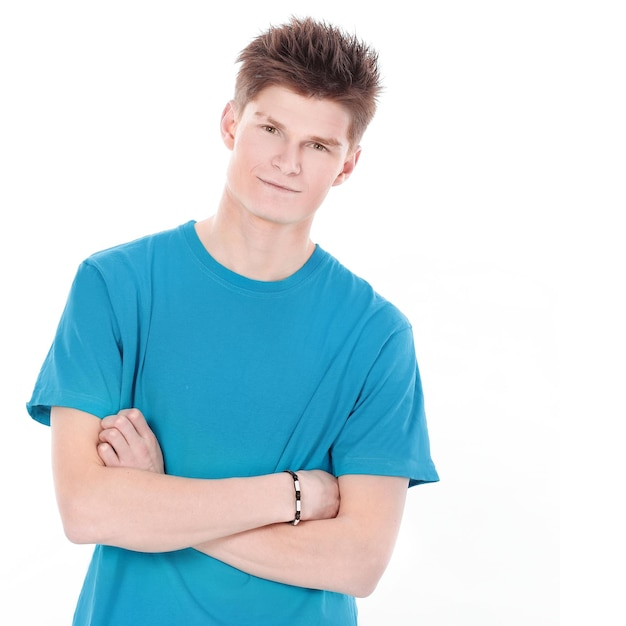teen: (195, 27, 388, 239)
